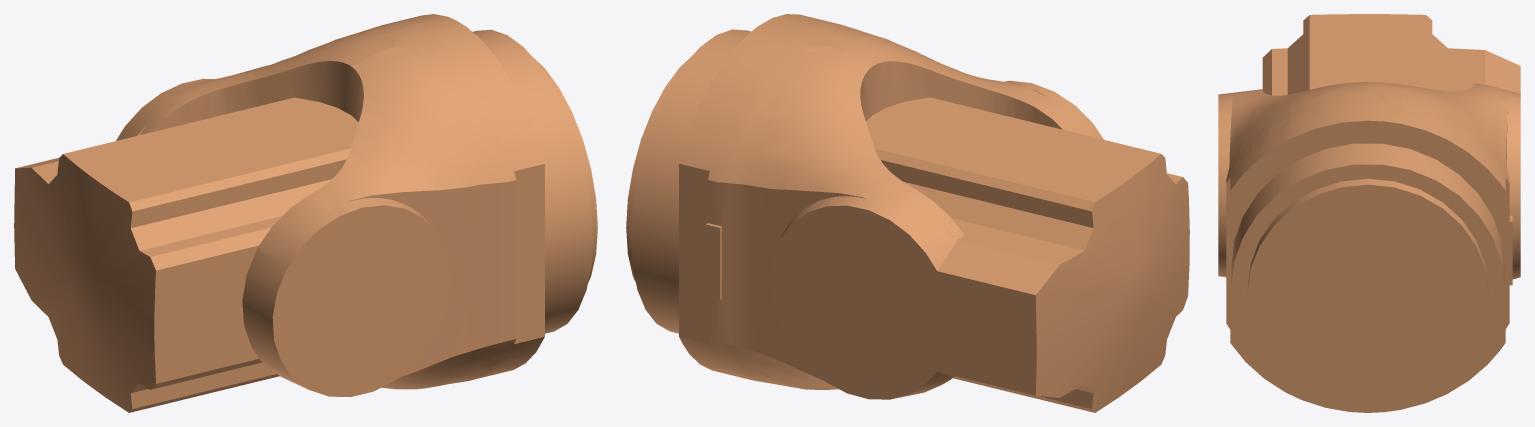
3 renders of one model, left to right at view 1: azimuth 30°, elevation 25°; view 2: azimuth 150°, elevation 25°; view 3: azimuth 270°, elevation 25°, orthographic. The views are drawn at different scales.
Visible parts, largest first — view 1: Link_5; view 2: Link_5; view 3: Link_5.
Boxes of the visible parts, x1,y1,x2,y2 form: Link_5: [14, 14, 597, 412]; Link_5: [626, 14, 1189, 412]; Link_5: [1218, 14, 1520, 412].
Size of the model in its own units: 0.2883 by 0.192 by 0.205.
